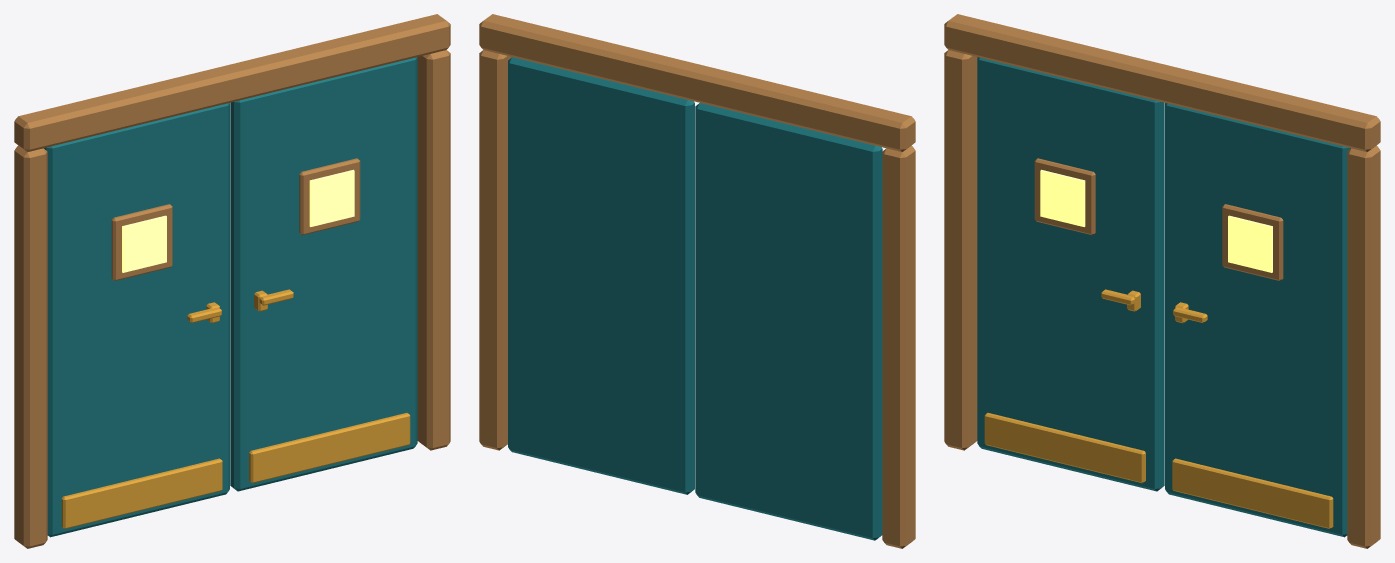
The model's file is exit_door.glb.
3 renders of one model, left to right at view 1: azimuth 30°, elevation 25°; view 2: azimuth 150°, elevation 25°; view 3: azimuth 330°, elevation 25°, orthographic.
Parts seen in each view (by area): view 1: part_door_r, part_door_l, exit_door; view 2: part_door_l, part_door_r, exit_door; view 3: part_door_l, part_door_r, exit_door.
Part boxes in pixels (<box>): part_door_r: <box>187,57,417,491</box>; part_door_l: <box>44,103,293,537</box>; exit_door: <box>14,14,450,548</box>; part_door_l: <box>695,103,882,540</box>; part_door_r: <box>508,57,694,494</box>; exit_door: <box>479,14,915,548</box>; part_door_l: <box>977,57,1207,491</box>; part_door_r: <box>1101,103,1350,537</box>; exit_door: <box>944,14,1380,548</box>.
Bounding box in the file's own units: 2.14 × 2.04 × 0.15.
